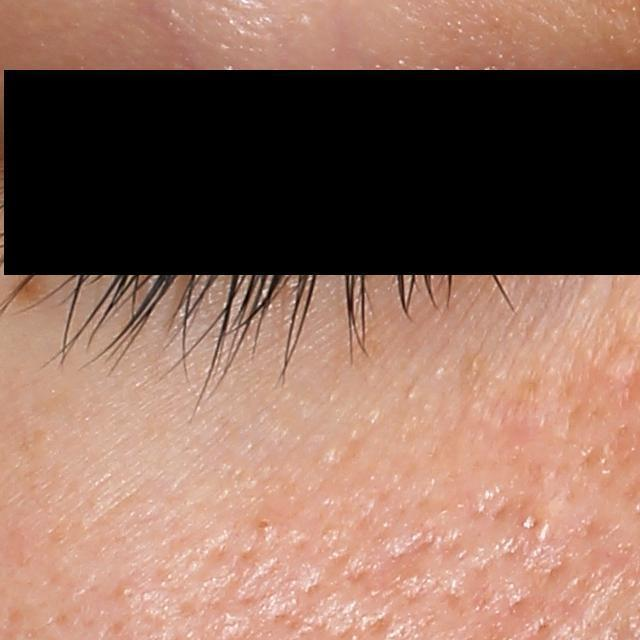comedo: (110, 579, 134, 601), (253, 512, 275, 533)
melasma: (6, 268, 52, 304)
